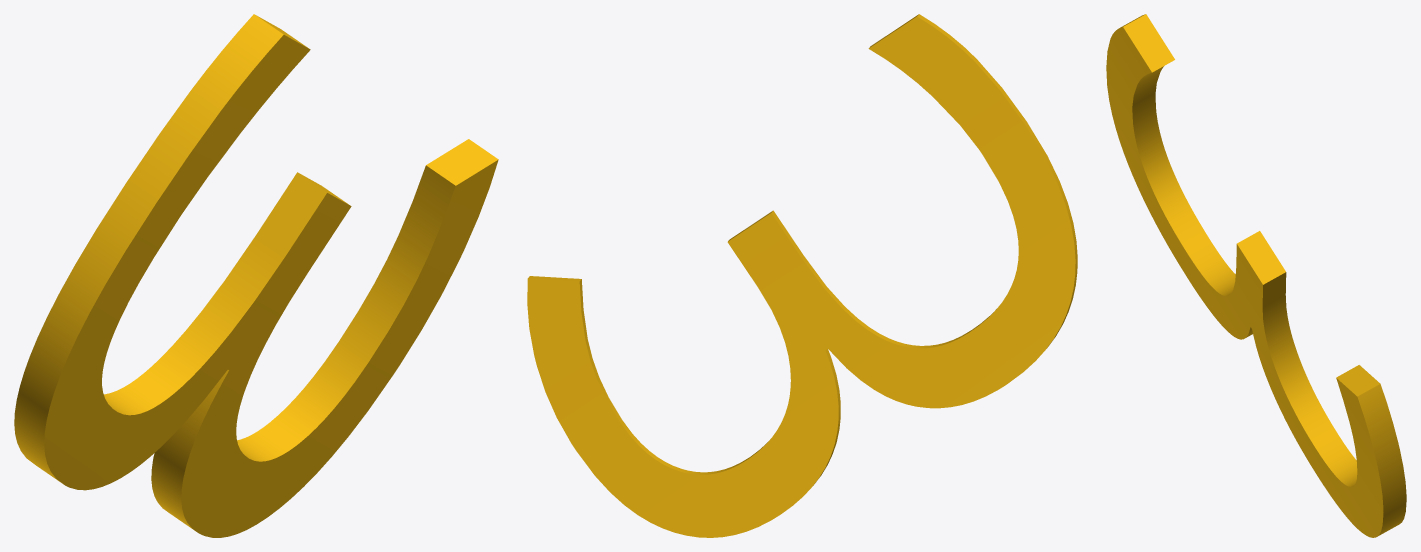
The model's file is Number_3.gltf.
3 renders of one model, left to right at view 1: azimuth 30°, elevation 25°; view 2: azimuth 150°, elevation 25°; view 3: azimuth 270°, elevation 25°, orthographic. The views are drawn at different scales.
Visible parts, largest first — view 1: Sub_1_Cell_1_3_Number_3; view 2: Sub_1_Cell_1_3_Number_3; view 3: Sub_1_Cell_1_3_Number_3.
Boxes of the visible parts, box(x1,y1,x2,y2) form: Sub_1_Cell_1_3_Number_3: box(14, 14, 498, 537); Sub_1_Cell_1_3_Number_3: box(527, 14, 1077, 537); Sub_1_Cell_1_3_Number_3: box(1106, 14, 1406, 537).
Bounding box in the file's own units: 0.0236 × 0.0238 × 0.014.
